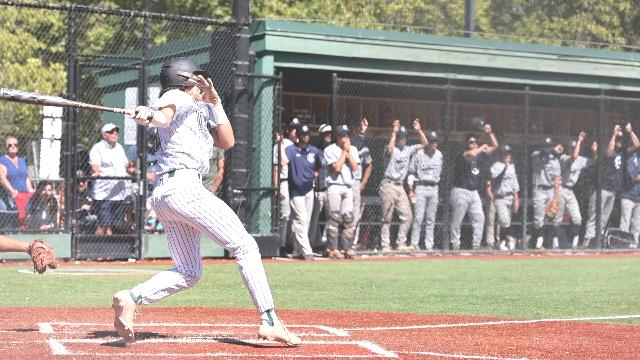baseball bat: (0, 86, 140, 116)
